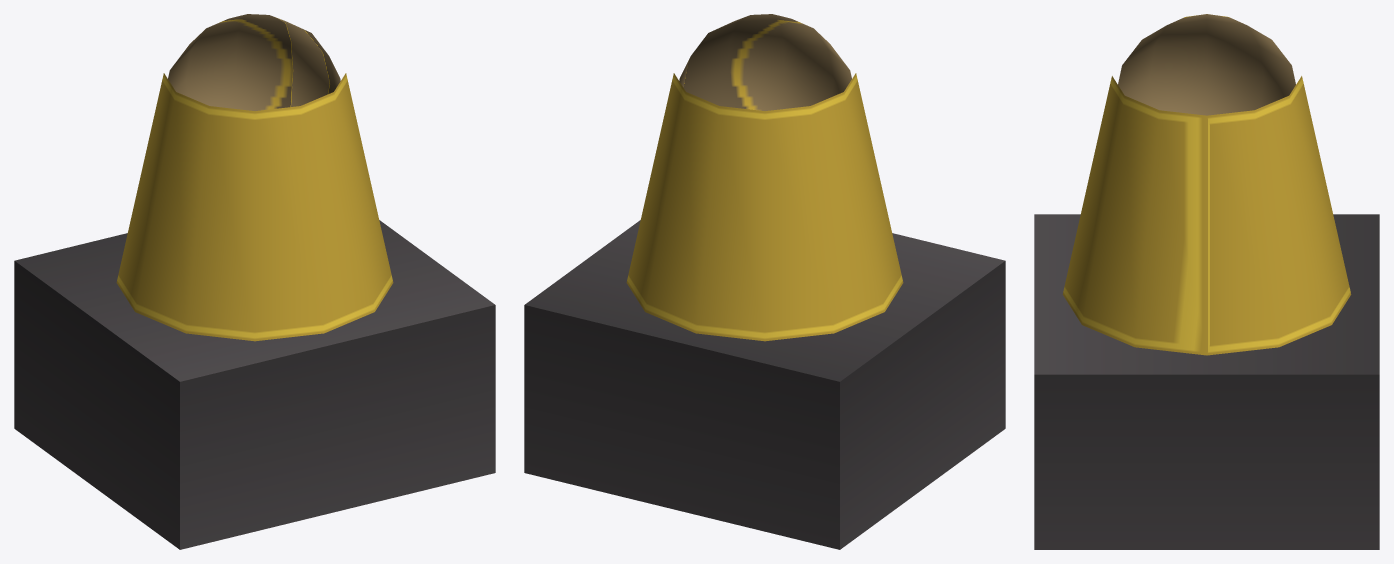
Rendered from merchant_safe.glb.
3 renders of one model, left to right at view 1: azimuth 30°, elevation 25°; view 2: azimuth 150°, elevation 25°; view 3: azimuth 270°, elevation 25°, orthographic. The views are drawn at different scales.
Visible parts, largest first — view 1: merchant_safe; view 2: merchant_safe; view 3: merchant_safe.
Boxes of the visible parts, box(x1,y1,x2,y2) form: merchant_safe: box(14, 14, 495, 549); merchant_safe: box(524, 14, 1005, 549); merchant_safe: box(1034, 14, 1379, 549).
Size of the model in its own units: 1.1 by 1.43 by 1.
1 material, 1 textured.
